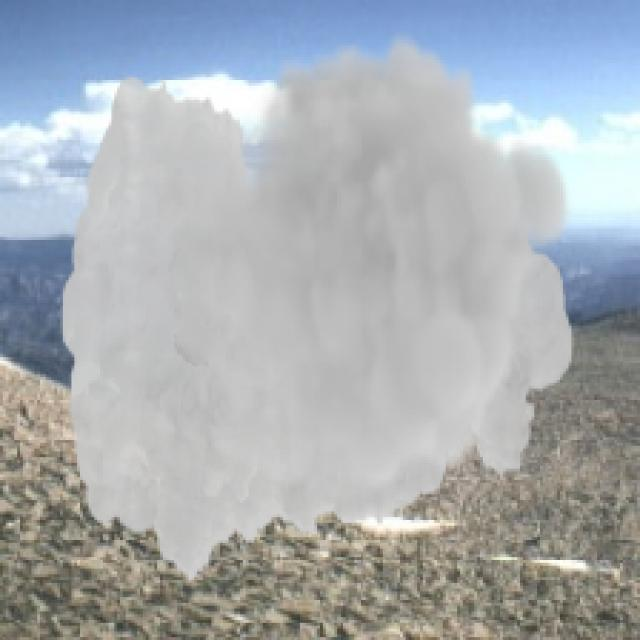Smoke: (59, 31, 574, 586)
